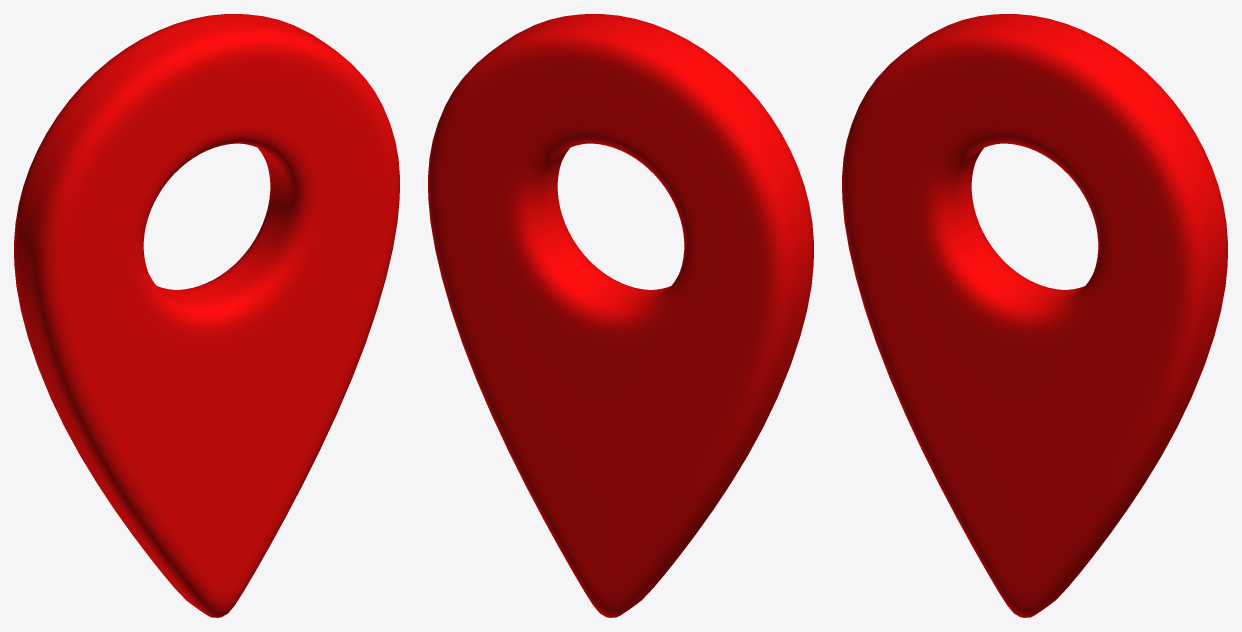
The model's file is NaviObj.FBX.
The picture shows the model from 3 angles, left to right: view 1: azimuth 30°, elevation 25°; view 2: azimuth 150°, elevation 25°; view 3: azimuth 330°, elevation 25°; orthographic projection.
Parts seen in each view (by area): view 1: map pointer; view 2: map pointer; view 3: map pointer.
Part boxes in pixels (left/top/right/bottom): map pointer: left=14, top=14, right=399, bottom=617; map pointer: left=428, top=14, right=813, bottom=617; map pointer: left=842, top=14, right=1227, bottom=617.
Bounding box in the file's own units: 2.94 × 4.52 × 0.5368.
